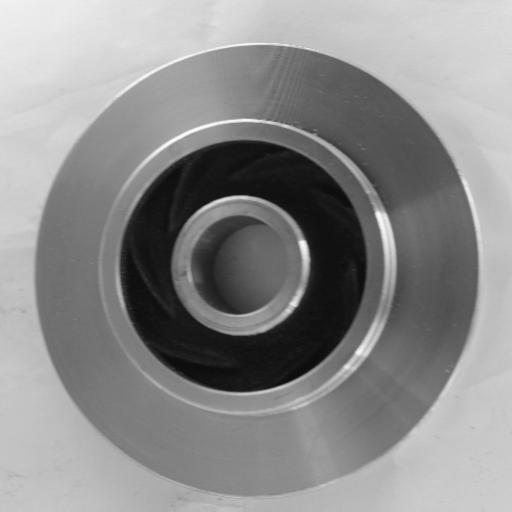polished_casting: (28, 41, 480, 500)
